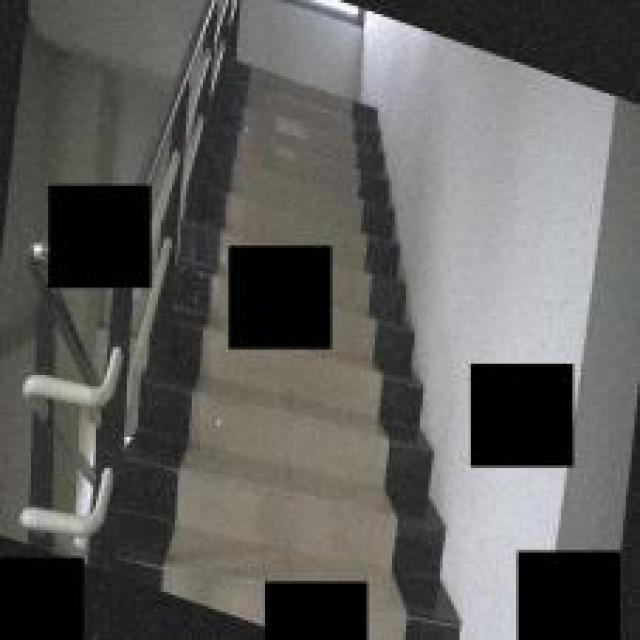upstair: (217, 45, 403, 245)
